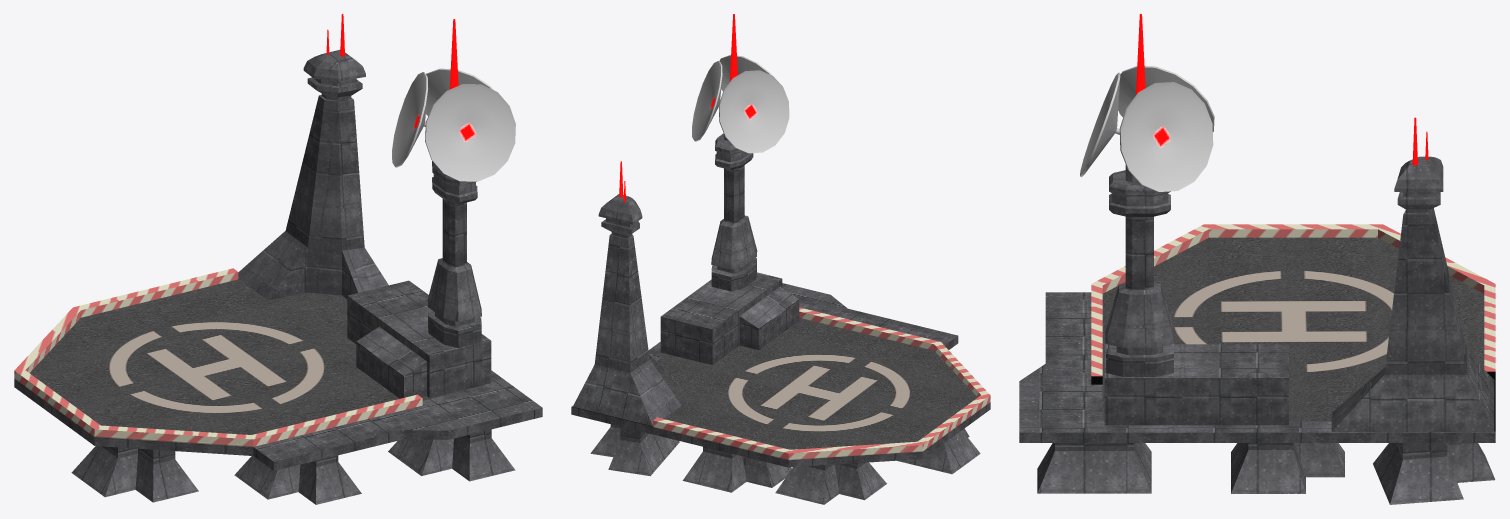
The model's file is contact.glb.
The picture shows the model from 3 angles, left to right: view 1: azimuth 30°, elevation 25°; view 2: azimuth 150°, elevation 25°; view 3: azimuth 270°, elevation 25°; orthographic projection. The views are drawn at different scales.
Parts seen in each view (by area): view 1: Object_3; view 2: Object_3; view 3: Object_3.
Boxes of the visible parts, x1=… form: Object_3: x1=14, y1=14, x2=542, y2=504; Object_3: x1=571, y1=14, x2=990, y2=504; Object_3: x1=1019, y1=14, x2=1495, y2=504.
Bounding box in the file's own units: 824 × 872 × 799.
1 material, 1 textured.
